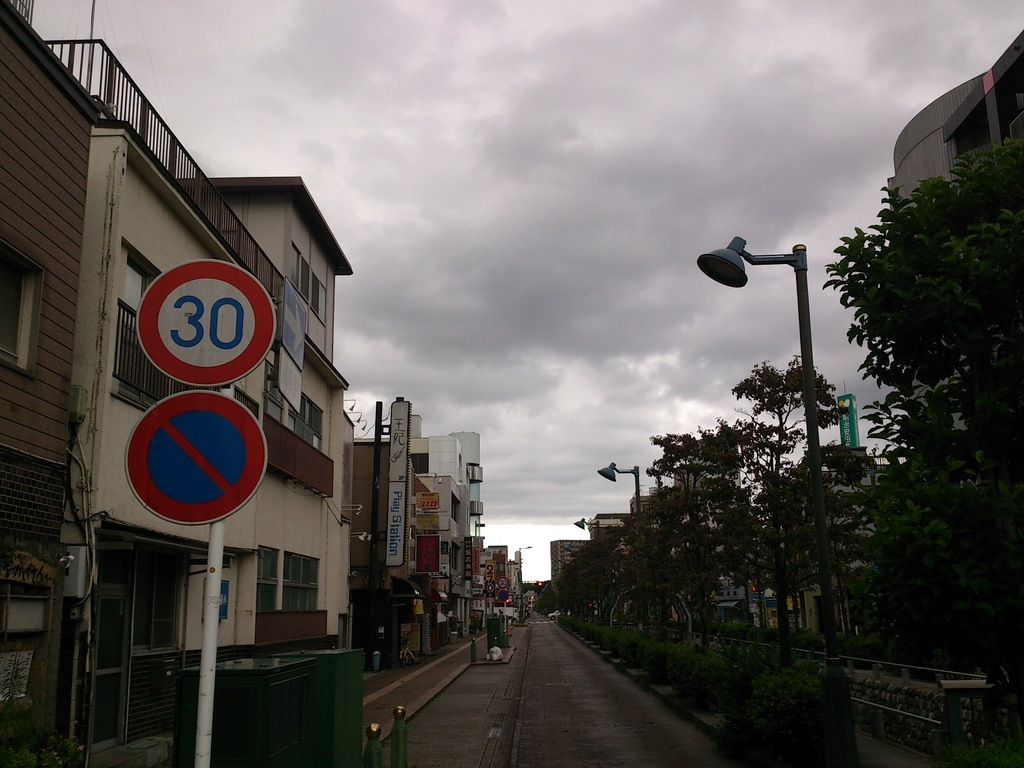speed_limit_30: (145, 261, 276, 385)
stop: (128, 392, 268, 526)
